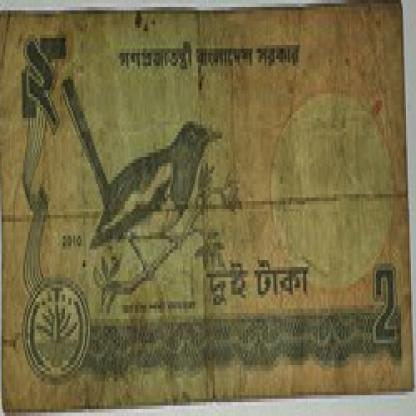two taka: (359, 264, 406, 357), (22, 38, 63, 135)
